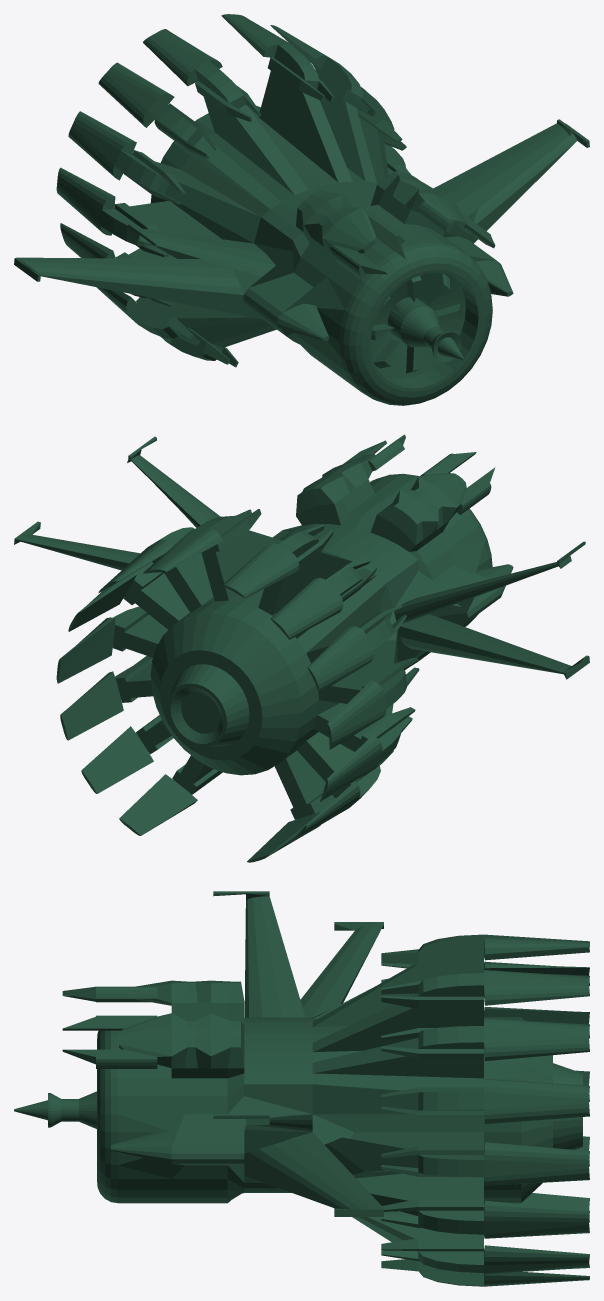
Rendered from BigTradingShip.fbx.
The picture shows the model from 3 angles, top to bottom: view 1: azimuth 30°, elevation 25°; view 2: azimuth 150°, elevation 25°; view 3: azimuth 270°, elevation 25°; orthographic projection. The views are drawn at different scales.
Visible parts, largest first — view 1: Eship3; view 2: Eship3; view 3: Eship3.
Part boxes in pixels (x1,y1,x2,y2): Eship3: (14, 14, 589, 405); Eship3: (14, 434, 589, 862); Eship3: (14, 891, 589, 1286).
Bounding box in the file's own units: 732 × 357 × 619.
